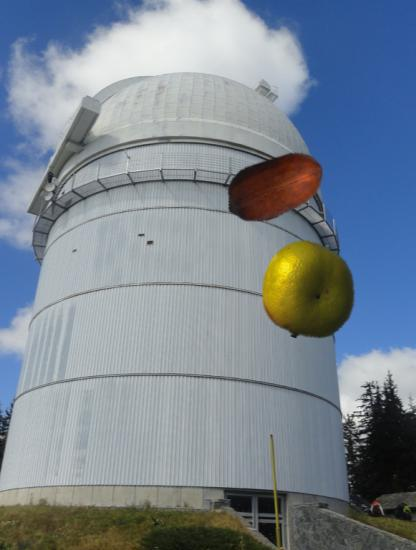Nut: (223, 136, 328, 241)
Pomelo: (260, 241, 359, 340)
